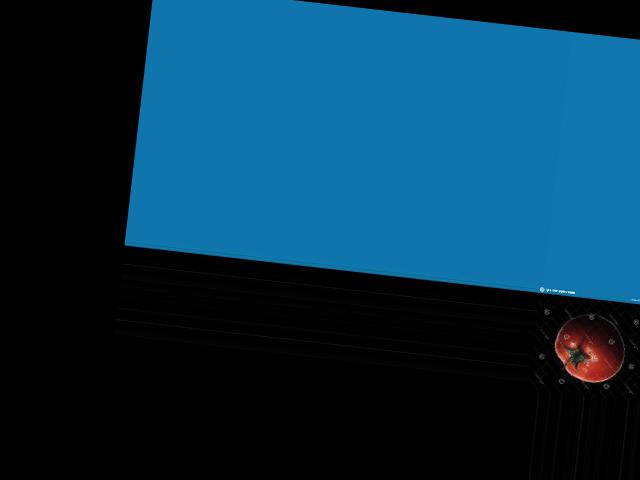tomato: (551, 310, 629, 385)
